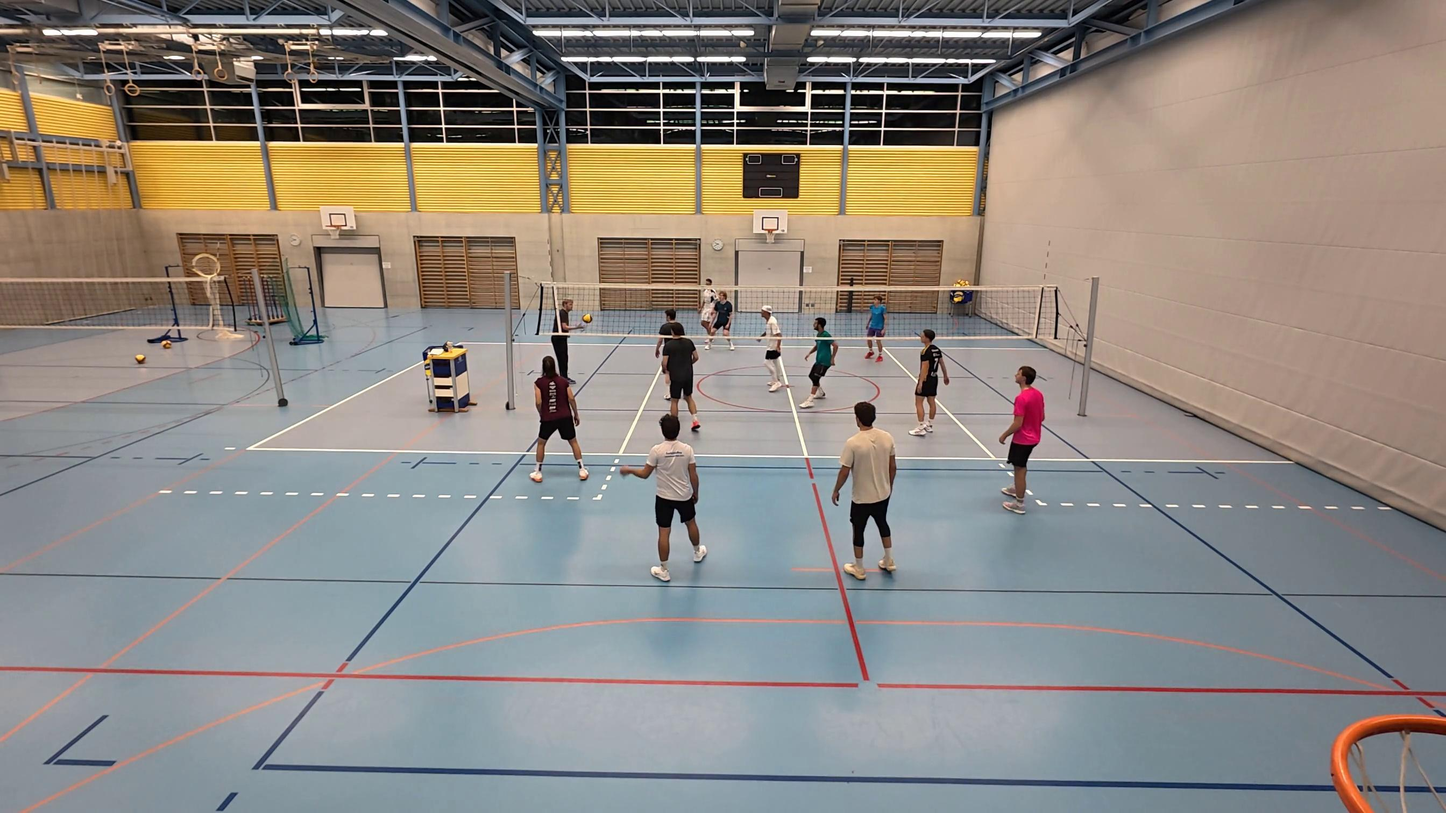Player: (618, 415, 707, 582), (831, 402, 897, 580), (529, 356, 589, 483), (998, 365, 1044, 512), (655, 310, 701, 433), (908, 328, 948, 437), (799, 318, 837, 409), (760, 306, 788, 393), (706, 288, 734, 351), (863, 295, 888, 361), (698, 280, 718, 337)
ball: (580, 311, 595, 326)
